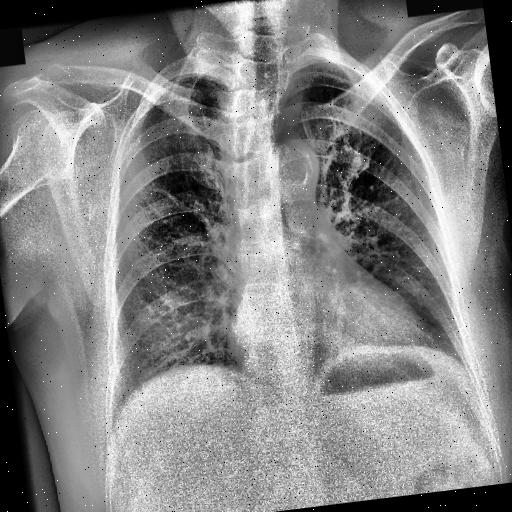0- Aortic enlargement: (265, 136, 323, 216), (272, 135, 322, 207), (269, 134, 323, 198)
3- Cardiomegaly: (222, 268, 438, 380), (228, 292, 447, 393), (226, 282, 438, 384)
